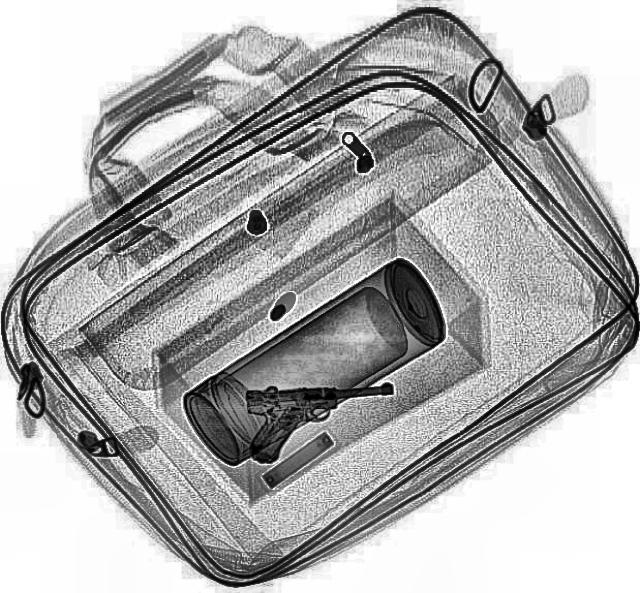Gun: (242, 381, 398, 463)
